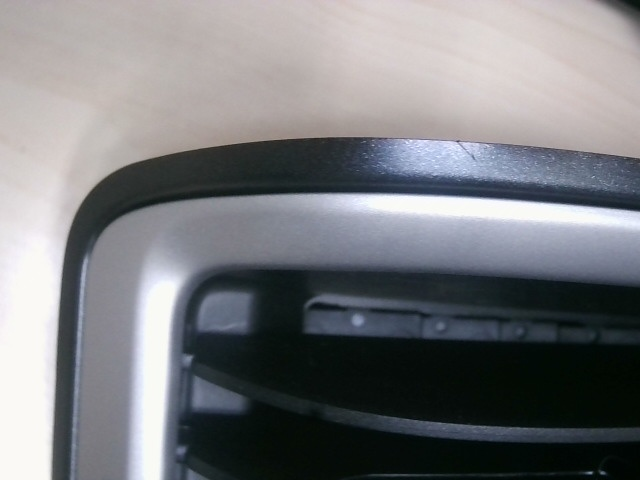NG: (451, 134, 482, 169)
